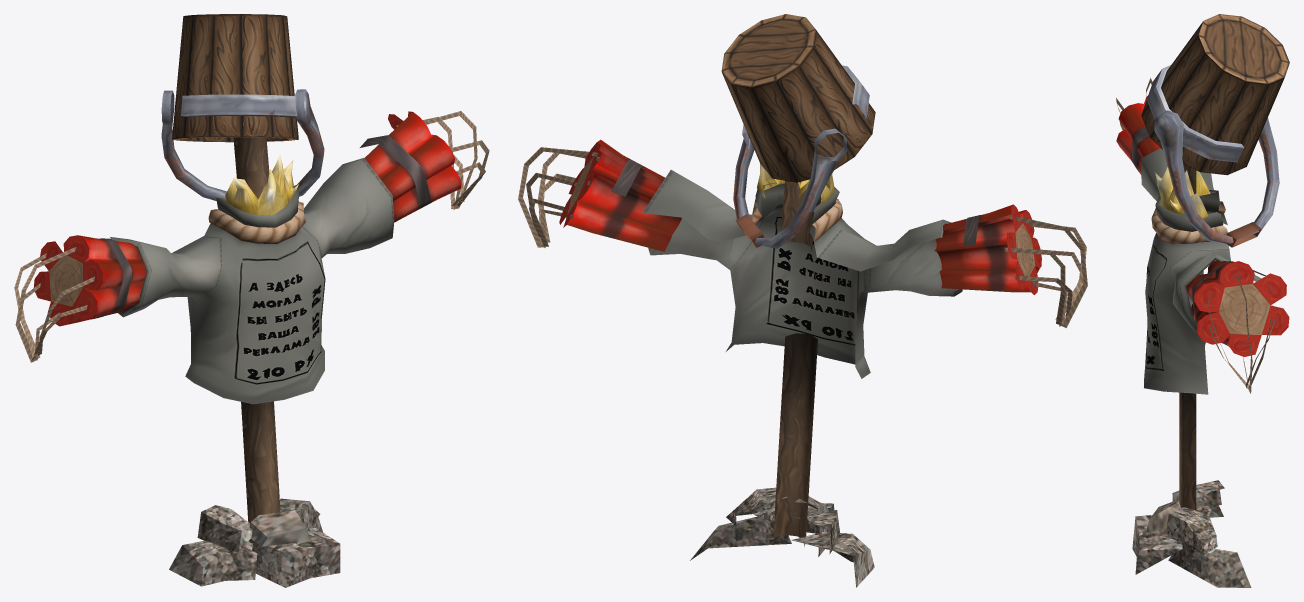
File: scarecrow_test5.FBX
The picture shows the model from 3 angles, left to right: view 1: azimuth 30°, elevation 25°; view 2: azimuth 150°, elevation 25°; view 3: azimuth 270°, elevation 25°; orthographic projection. The views are drawn at different scales.
Visible parts, largest first — view 1: Box006; view 2: Box006; view 3: Box006.
Part boxes in pixels (x1,y1,x2,y2): Box006: (14, 14, 489, 587); Box006: (518, 14, 1087, 587); Box006: (1116, 14, 1289, 587).
Size of the model in its own units: 37.85 by 38.44 by 11.55.
1 material, 1 textured.
